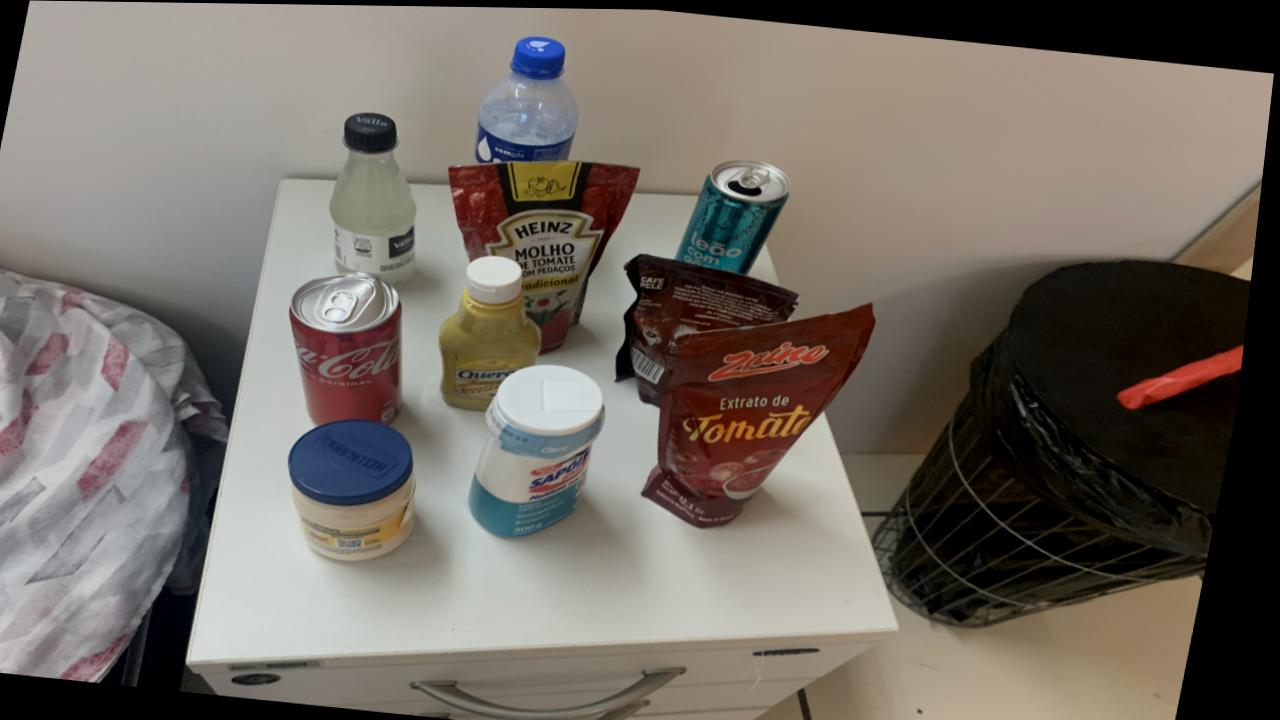Cleaner-Cleanup_Items: (479, 363, 615, 536)
Coffee-Pantry_Items: (623, 252, 805, 403)
Coke-Drinks: (296, 271, 411, 424)
Mayonnaise-Pantry_Items: (298, 418, 427, 560)
Mustard-Pantry_Items: (445, 254, 549, 409)
Soda-Drinks: (332, 112, 423, 281)
Tea-Drinks: (681, 157, 794, 272)
Tomato_Sauce-Pantry_Items: (652, 301, 882, 525), (452, 158, 643, 351)
Water_Bottle-Drinks: (477, 34, 581, 162)
